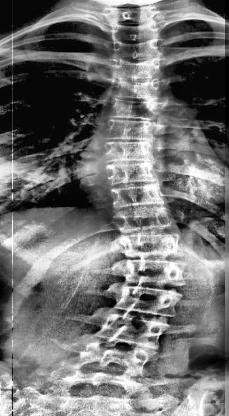Vertebrae: (76, 341, 152, 383), (59, 369, 137, 405), (96, 315, 168, 351), (112, 286, 178, 316), (121, 233, 186, 262), (109, 206, 175, 234), (121, 258, 184, 286), (104, 160, 162, 188), (108, 183, 166, 211), (106, 95, 160, 122), (102, 141, 158, 167), (109, 57, 164, 83), (105, 118, 155, 144), (110, 38, 164, 60), (111, 78, 162, 100), (104, 5, 158, 25), (110, 22, 160, 42)
